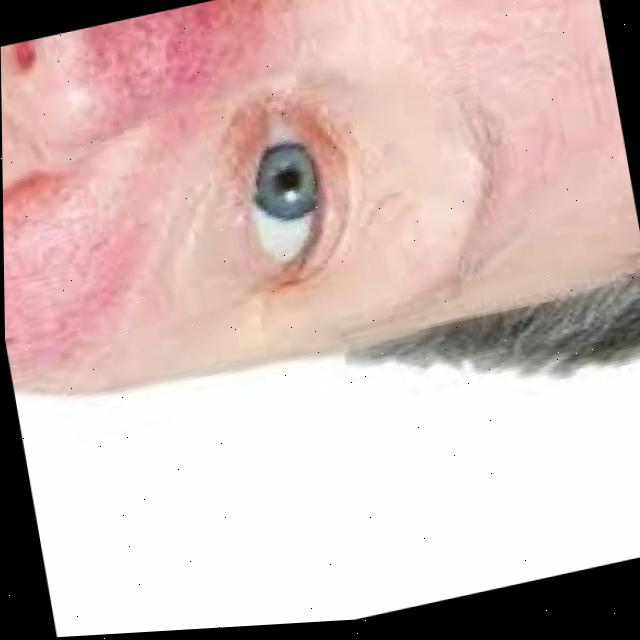Rosacea: (2, 109, 259, 408), (79, 0, 293, 134)
